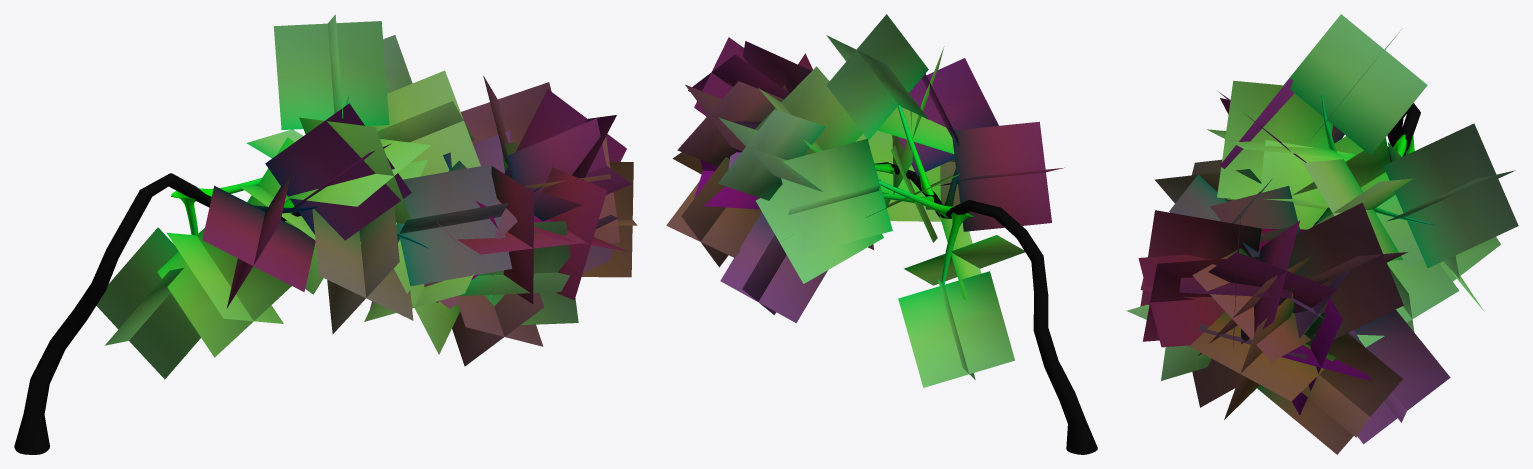
File: URP_P5_Tree_7_LOD_1.fbx
The picture shows the model from 3 angles, left to right: view 1: azimuth 30°, elevation 25°; view 2: azimuth 150°, elevation 25°; view 3: azimuth 270°, elevation 25°; orthographic projection. The views are drawn at different scales.
Parts seen in each view (by area): view 1: Tree_7_LOD_1; view 2: Tree_7_LOD_1; view 3: Tree_7_LOD_1.
Part boxes in pixels (x1,y1,x2,y2): Tree_7_LOD_1: [14, 14, 637, 454]; Tree_7_LOD_1: [666, 14, 1097, 454]; Tree_7_LOD_1: [1126, 14, 1518, 454].
Bounding box in the file's own units: 475 × 332 × 289.
